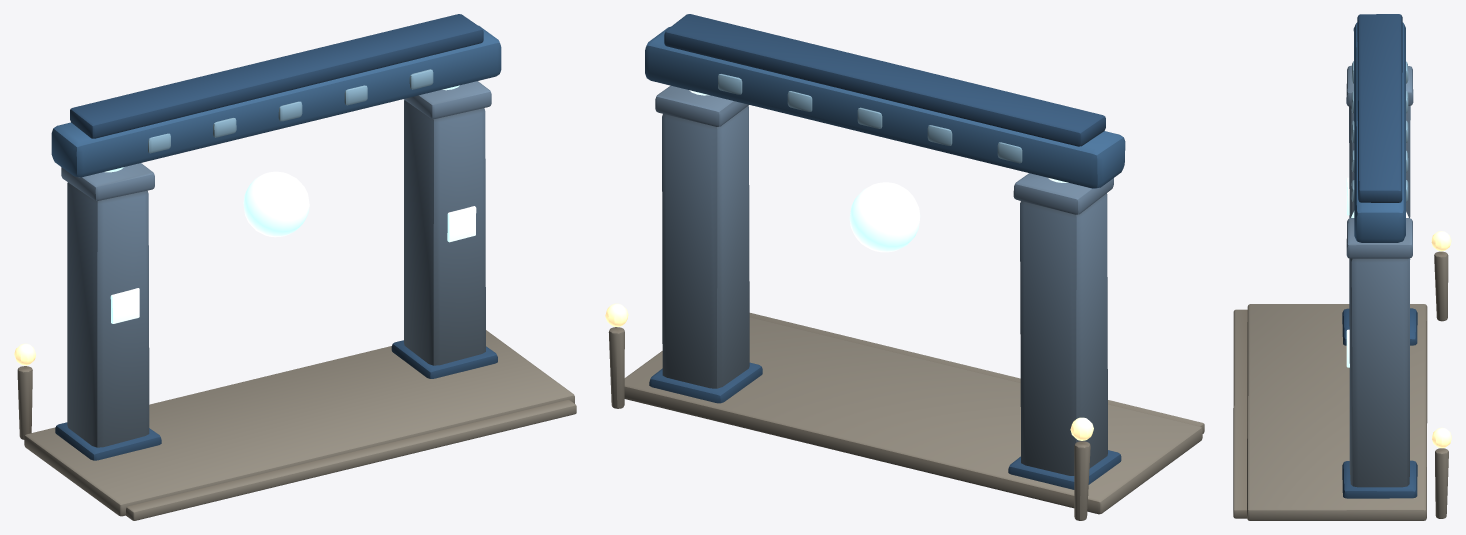
3 renders of one model, left to right at view 1: azimuth 30°, elevation 25°; view 2: azimuth 150°, elevation 25°; view 3: azimuth 270°, elevation 25°, orthographic. The views are drawn at different scales.
Parts seen in each view (by area): view 1: gate_2d37cbd6; view 2: gate_2d37cbd6; view 3: gate_2d37cbd6.
Boxes of the visible parts, <box> form: gate_2d37cbd6: <box>14,14,576,520</box>; gate_2d37cbd6: <box>605,14,1204,520</box>; gate_2d37cbd6: <box>1233,14,1451,520</box>.
Size of the model in its own units: 5.7 by 4.1 by 2.55.
